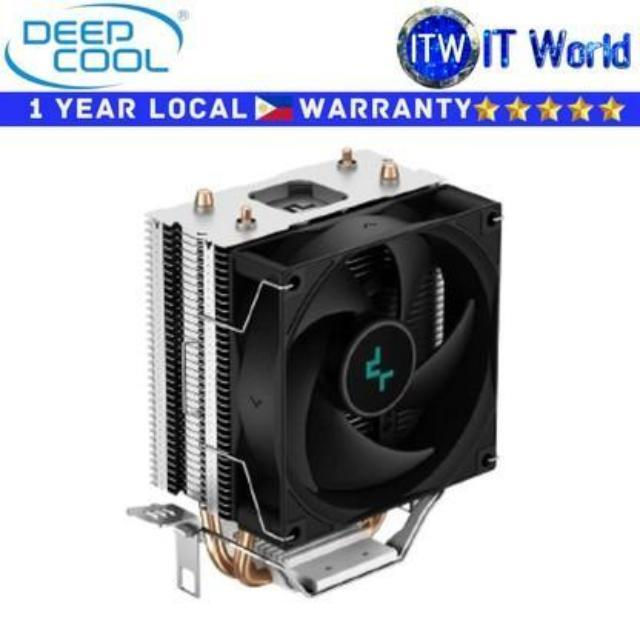CPU_Fan: (127, 142, 504, 614)
